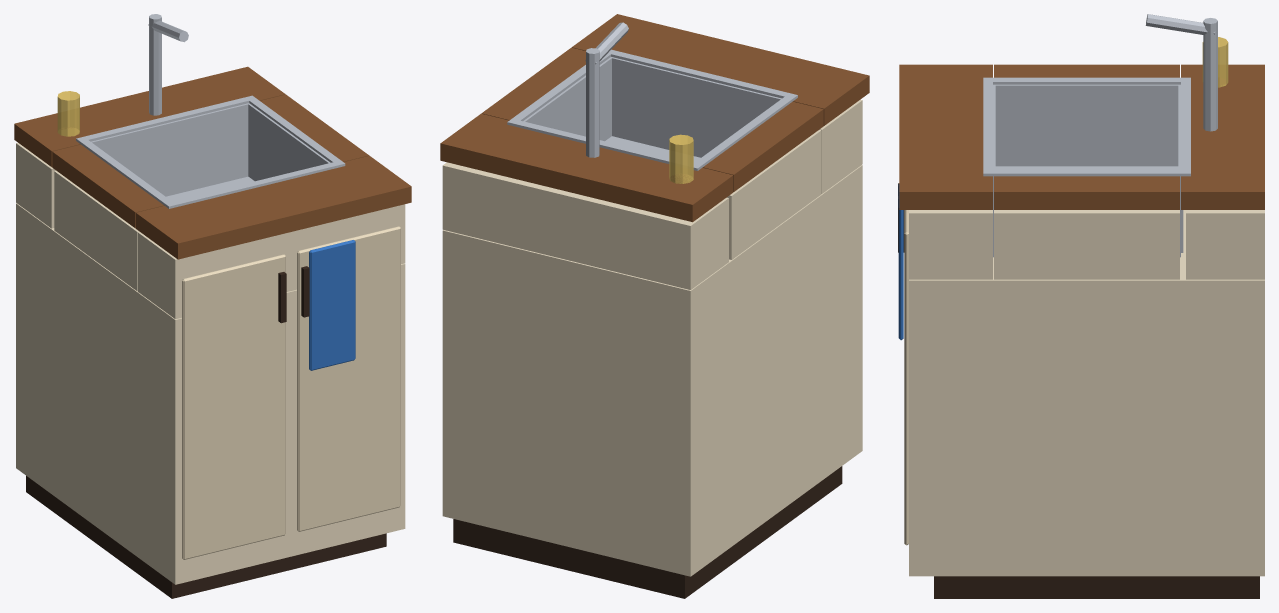
Rendered from counter_sink.glb.
The picture shows the model from 3 angles, left to right: view 1: azimuth 30°, elevation 25°; view 2: azimuth 150°, elevation 25°; view 3: azimuth 270°, elevation 25°; orthographic projection. The views are drawn at different scales.
Parts seen in each view (by area): view 1: counter_sink; view 2: counter_sink; view 3: counter_sink.
Part boxes in pixels (left/top/right/bottom): counter_sink: left=14, top=14, right=411, bottom=598; counter_sink: left=440, top=14, right=869, bottom=598; counter_sink: left=898, top=14, right=1264, bottom=598.
Bounding box in the file's own units: 0.61 × 1.17 × 0.7425.
